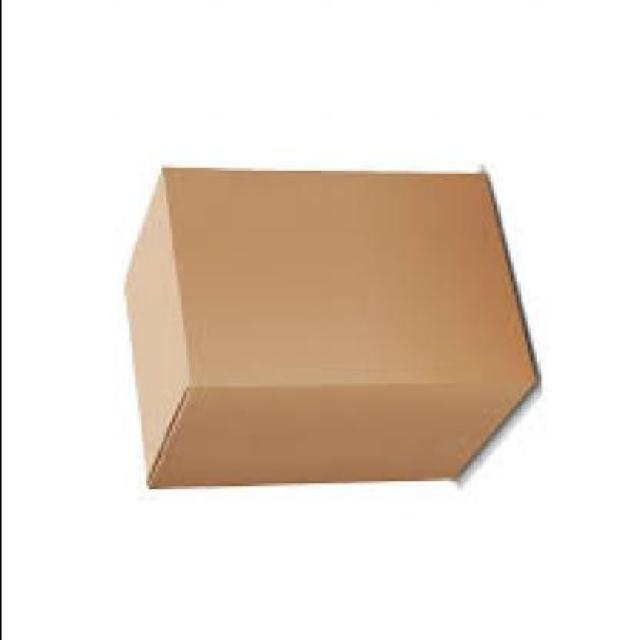CARDBOARD: (119, 162, 532, 487)
